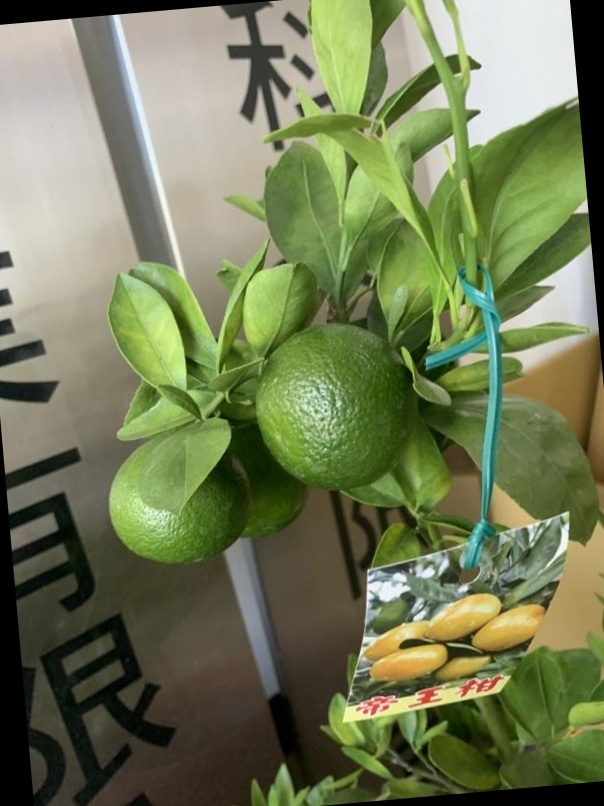Tangerine: (256, 326, 421, 492), (107, 436, 255, 564)
